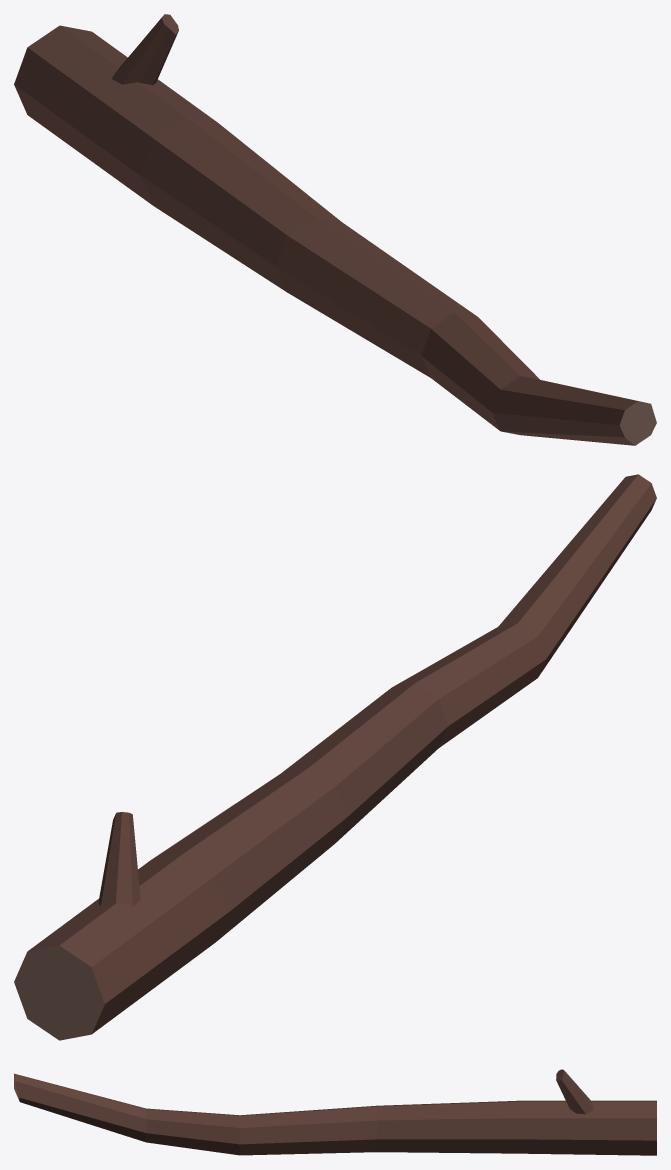
The model's file is Broken tree_2.fbx.
The picture shows the model from 3 angles, top to bottom: view 1: azimuth 30°, elevation 25°; view 2: azimuth 150°, elevation 25°; view 3: azimuth 270°, elevation 25°; orthographic projection. The views are drawn at different scales.
Visible parts, largest first — view 1: Broken tree_2; view 2: Broken tree_2; view 3: Broken tree_2.
Boxes of the visible parts, left/top/right/bottom form: Broken tree_2: left=14, top=14, right=656, bottom=445; Broken tree_2: left=14, top=474, right=656, bottom=1040; Broken tree_2: left=14, top=1069, right=656, bottom=1155.
Bounding box in the file's own units: 0.4516 × 0.719 × 4.63.
